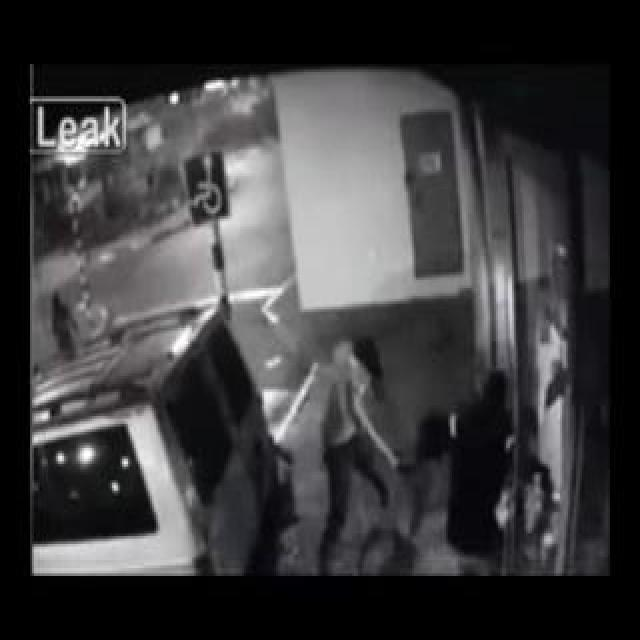thief: (300, 312, 509, 515)
